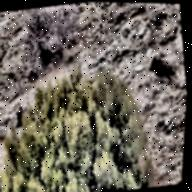boar: (139, 44, 184, 94)
